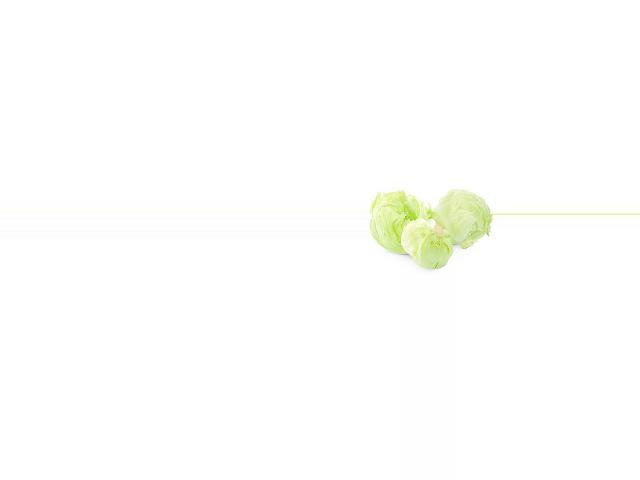lettuce: (372, 193, 424, 250)
